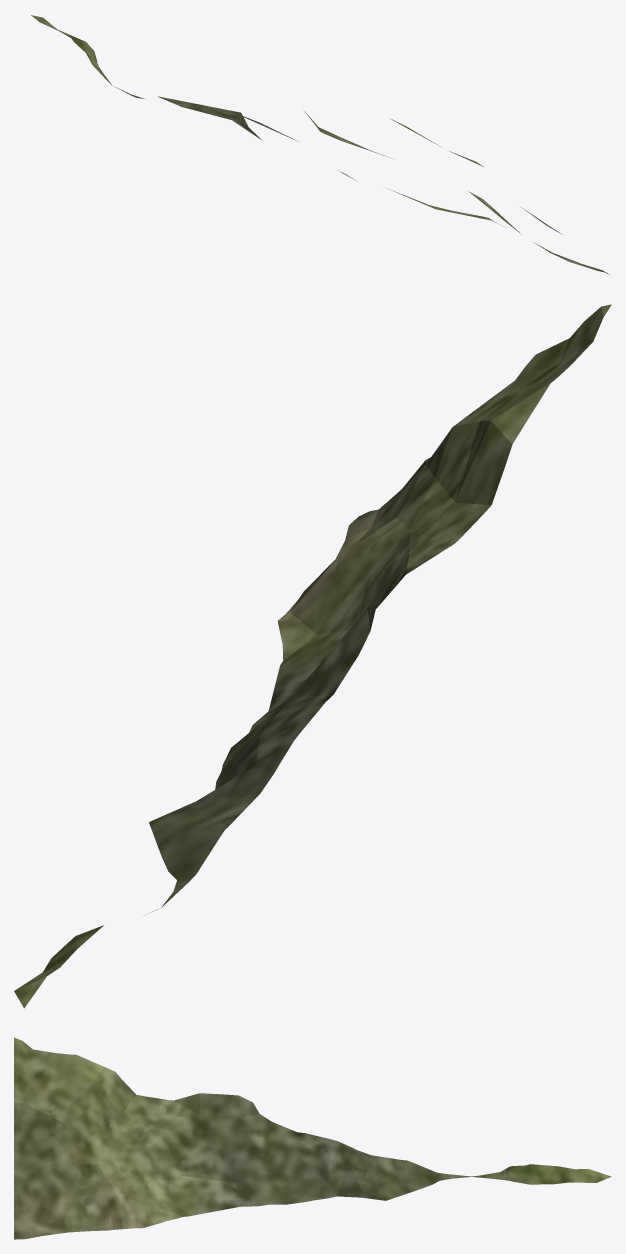
The picture shows the model from 3 angles, top to bottom: view 1: azimuth 30°, elevation 25°; view 2: azimuth 150°, elevation 25°; view 3: azimuth 270°, elevation 25°; orthographic projection. The views are drawn at different scales.
Bounding box in the file's own units: 0.482 × 0.4981 × 1.94.
1 material, 1 textured.
